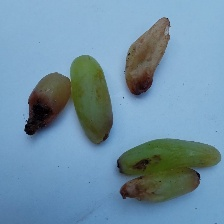grapes: (36, 54, 177, 201)
